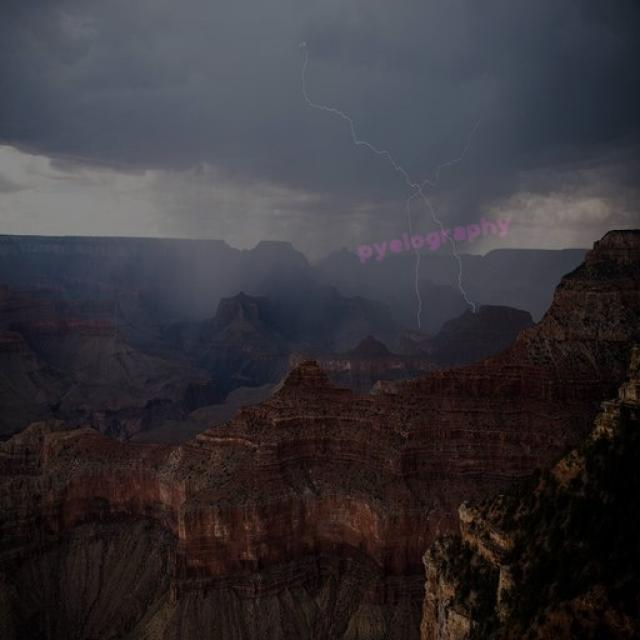watermark: (353, 212, 513, 262)
